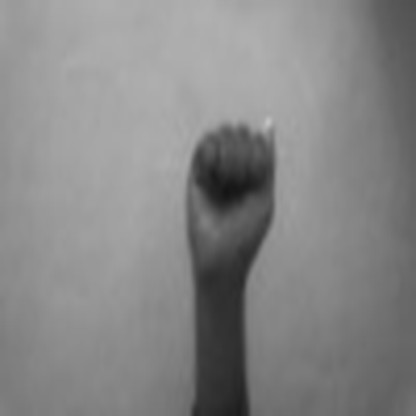a: (172, 108, 283, 272)
